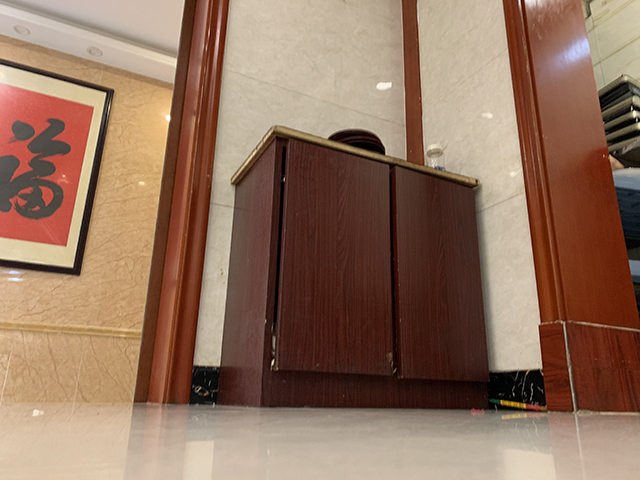cabinet: (216, 121, 493, 410)
